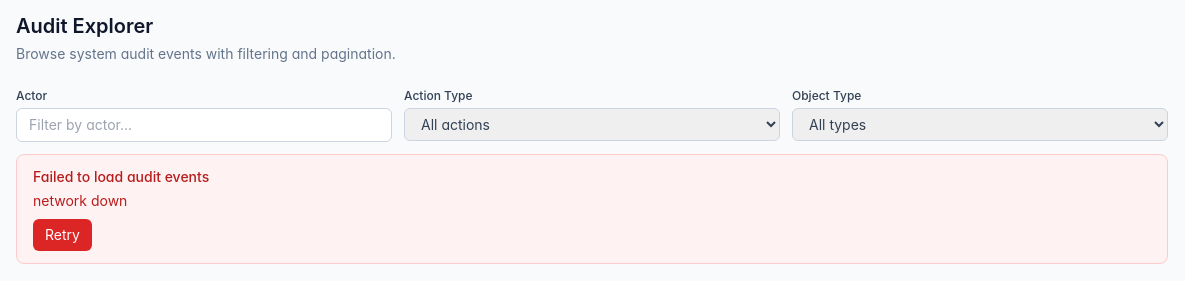
AuditExplorer › renders error state with retry on listAudit failure
Expected: the message with test id "audit-error" shows "network down", [33, 192, 127, 209]
Click the button "Retry".
click(62, 235)  # box [33, 219, 92, 251]
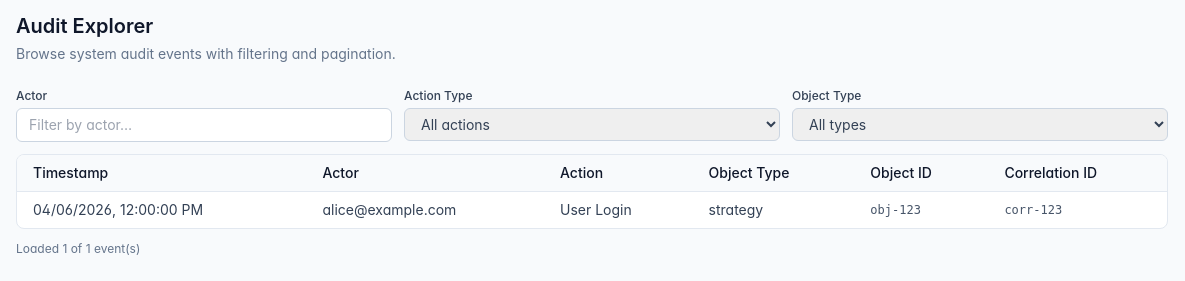
Result: the row with test id "audit-row-01HAUD00000000000000RETRY" is shown at [17, 192, 1167, 228]
